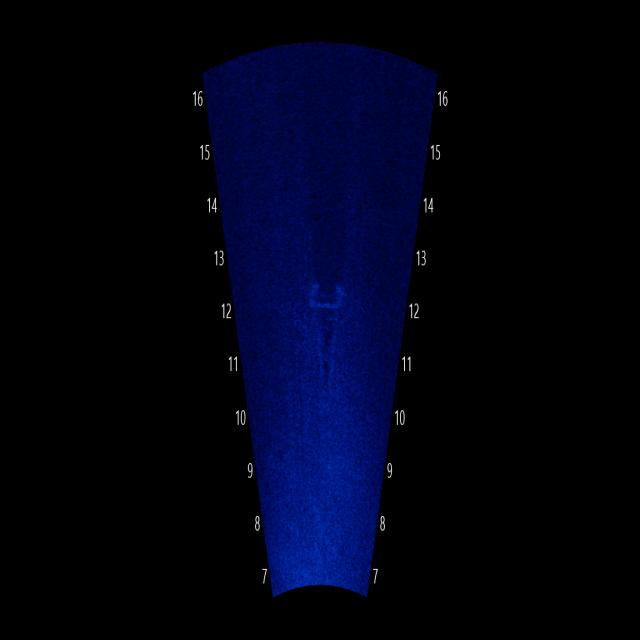triangle: (303, 266, 352, 421)
